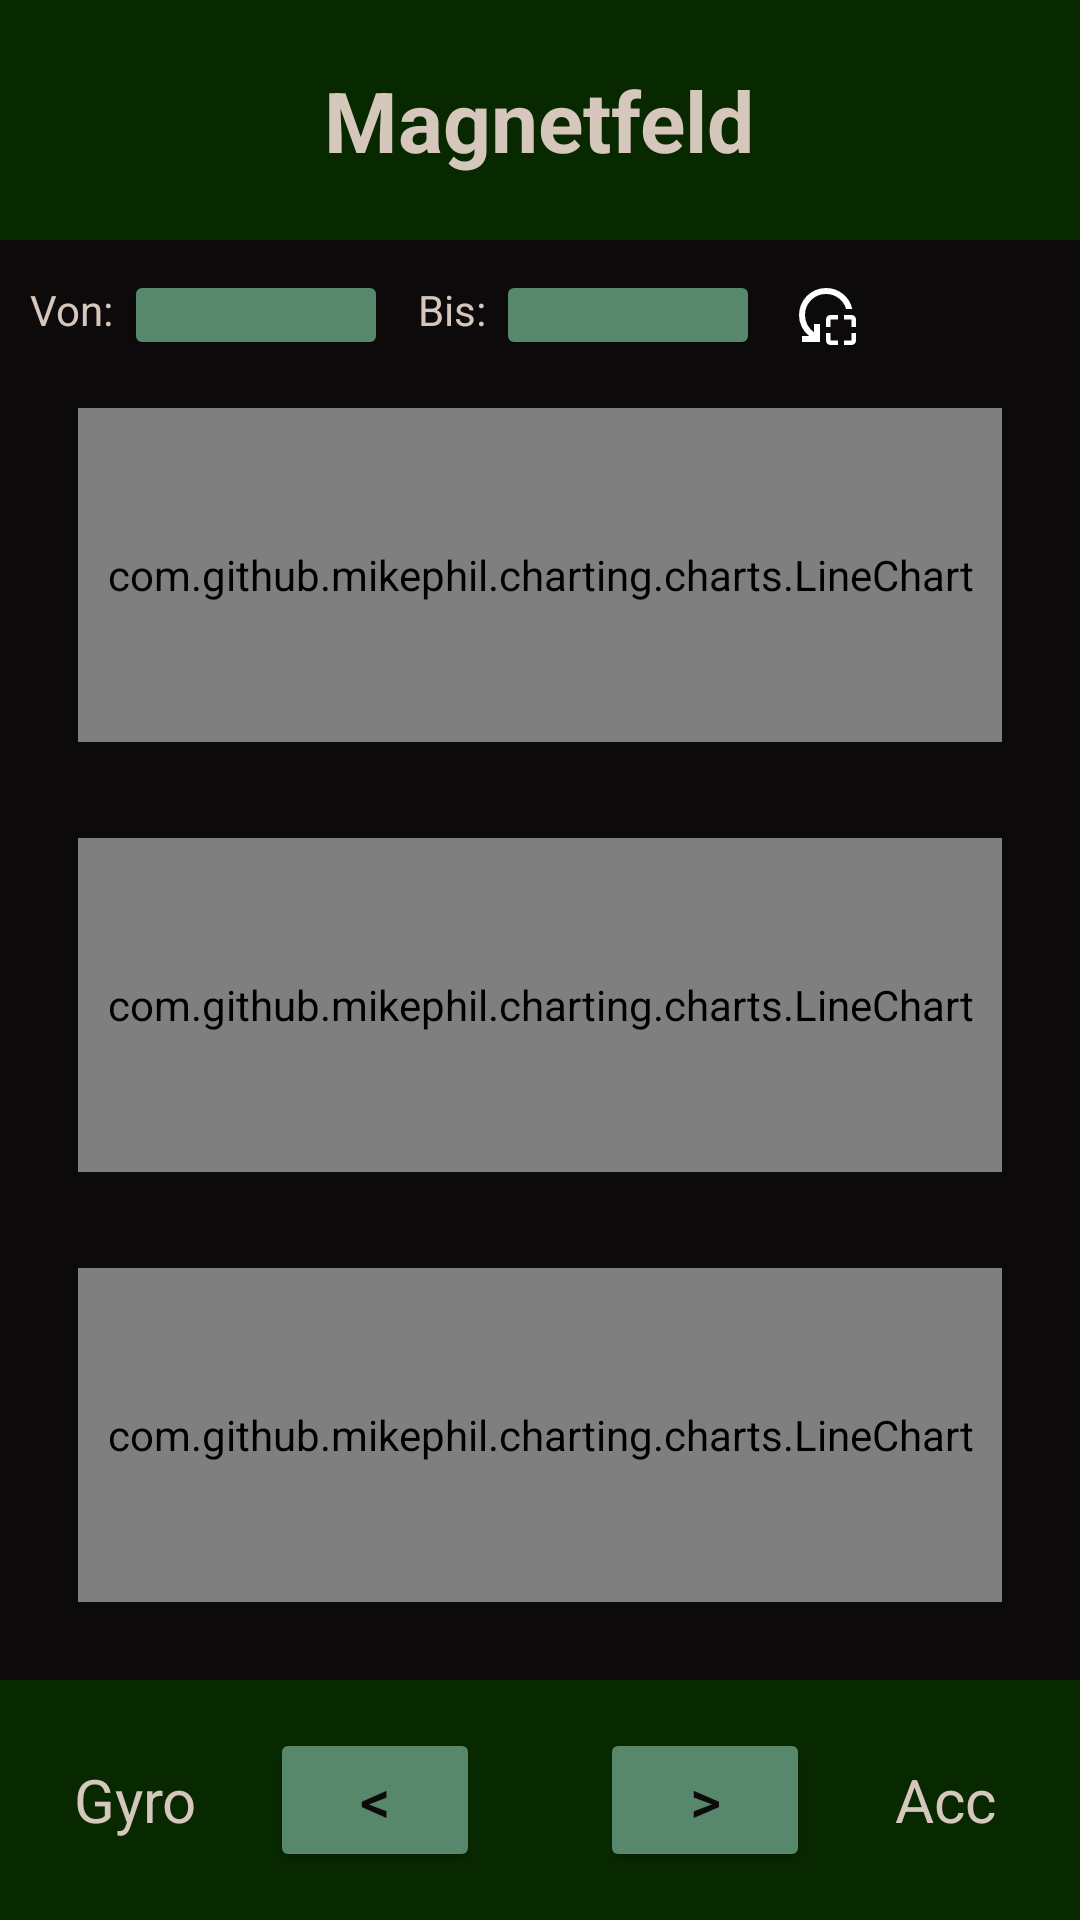

Icons on this 1080px×1920px Android screen, each with the point to tap as [x,y]:
reset focus: [827,316]
